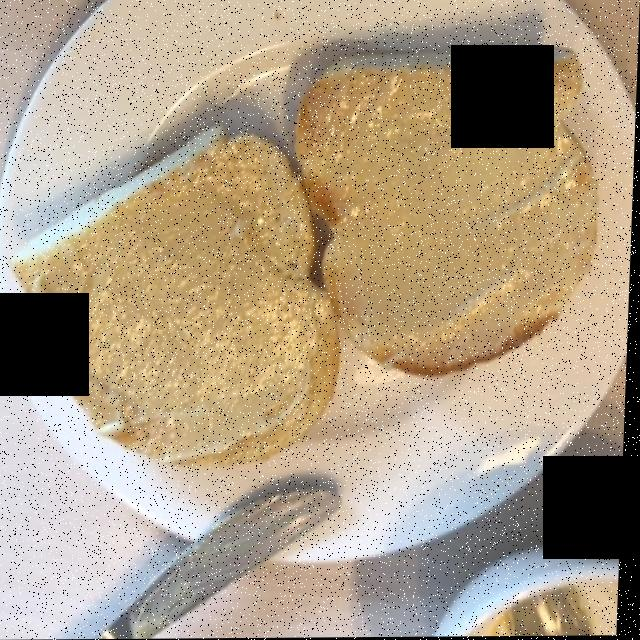braided-white-loaf: (14, 48, 612, 463)
butter-spread-puree-almond: (55, 62, 582, 468)
